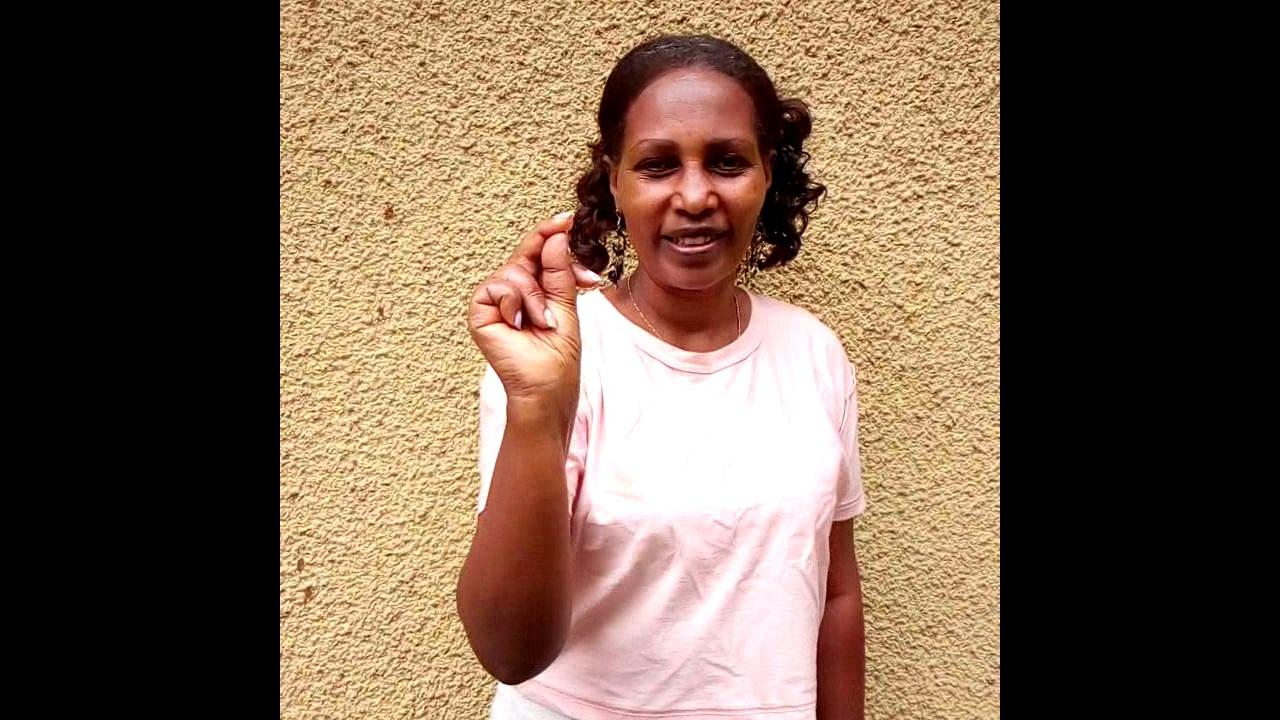CHE: (467, 211, 601, 500)
